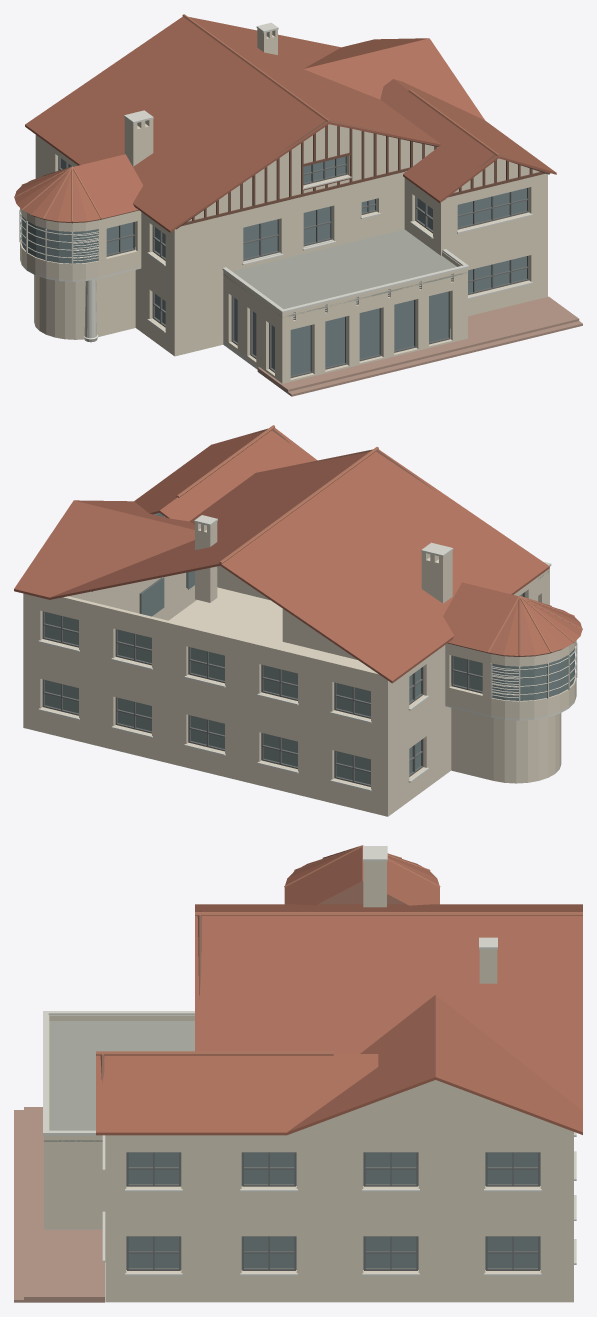
Rendered from xuhui-libo-garden-east-house-lod.glb.
3 views of the same model, one above another, from view 1: azimuth 30°, elevation 25°; view 2: azimuth 150°, elevation 25°; view 3: azimuth 270°, elevation 25° (orthographic). The views are drawn at different scales.
Parts seen in each view (by area): view 1: 丽波花园东主楼; view 2: 丽波花园东主楼; view 3: 丽波花园东主楼.
Boxes of the visible parts, x1,y1,x2,y2 form: 丽波花园东主楼: [14, 14, 582, 396]; 丽波花园东主楼: [14, 425, 582, 816]; 丽波花园东主楼: [14, 845, 582, 1302].
Bounding box in the file's own units: 25.84 × 11.48 × 21.89.
